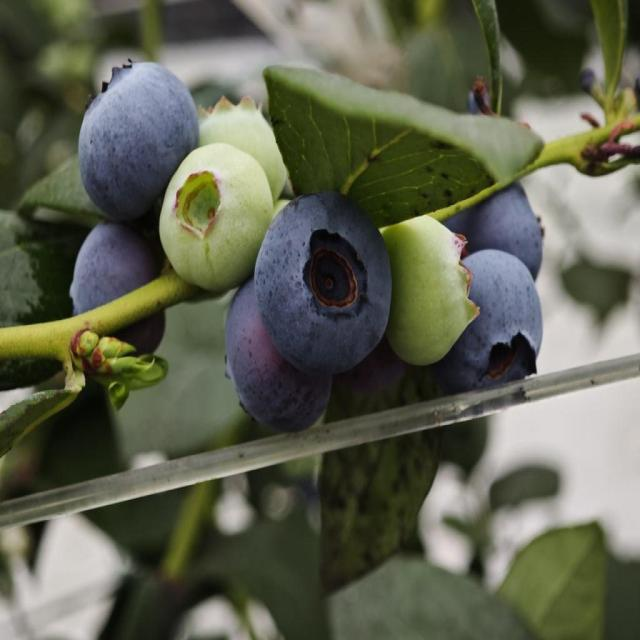RipeBlueBerry: (254, 189, 396, 378), (75, 59, 201, 224)
UnripeBlueBerry: (159, 142, 277, 295)
